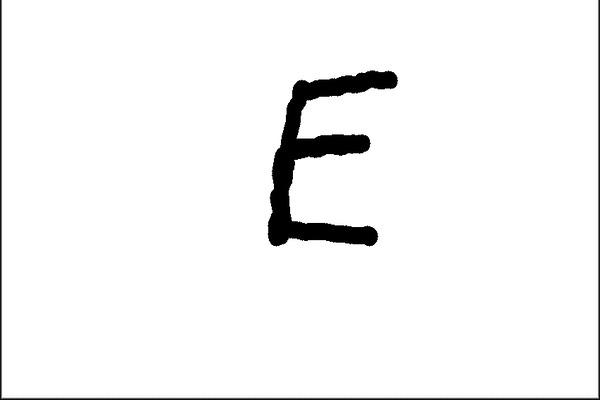E: (259, 65, 401, 252)
